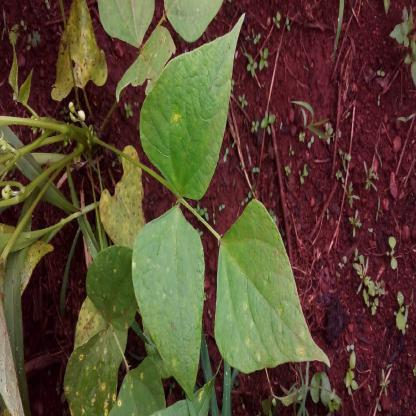Beans_Rust: (214, 200, 335, 371), (140, 13, 244, 198), (130, 209, 204, 394), (85, 246, 138, 340), (66, 329, 115, 416), (112, 362, 171, 416)
